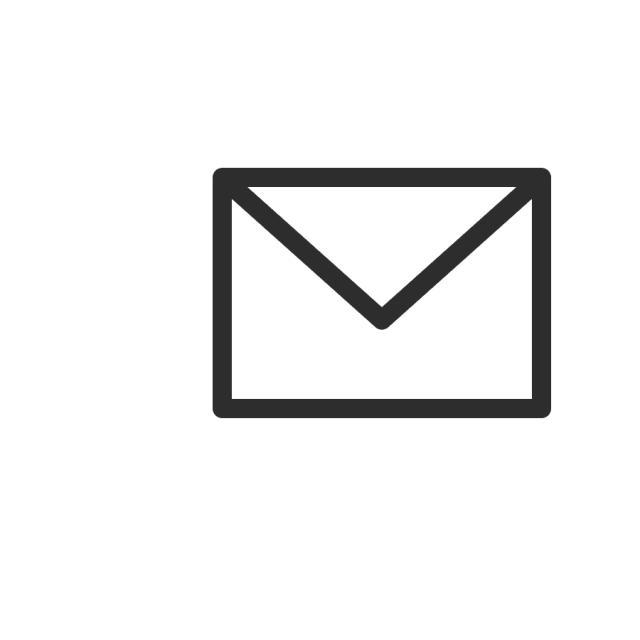letter: (207, 166, 553, 424)
